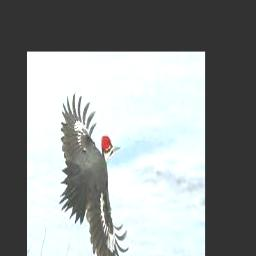Woodpecker: (59, 91, 129, 256)
